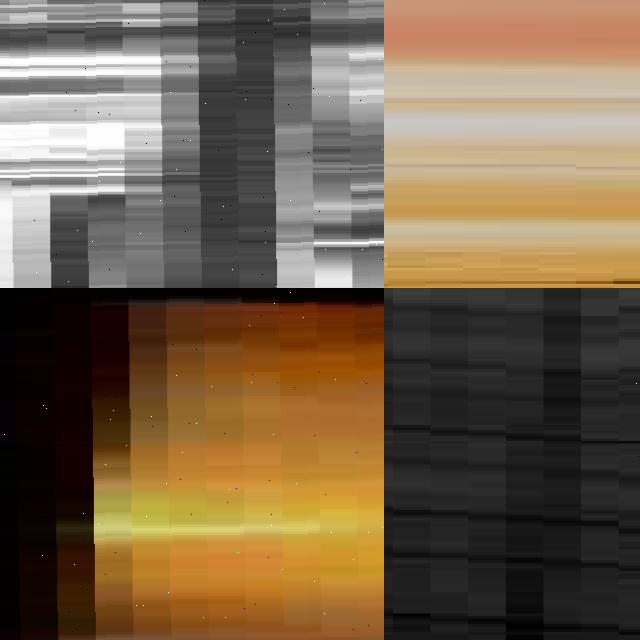street light: (0, 288, 384, 640), (0, 0, 384, 288)
